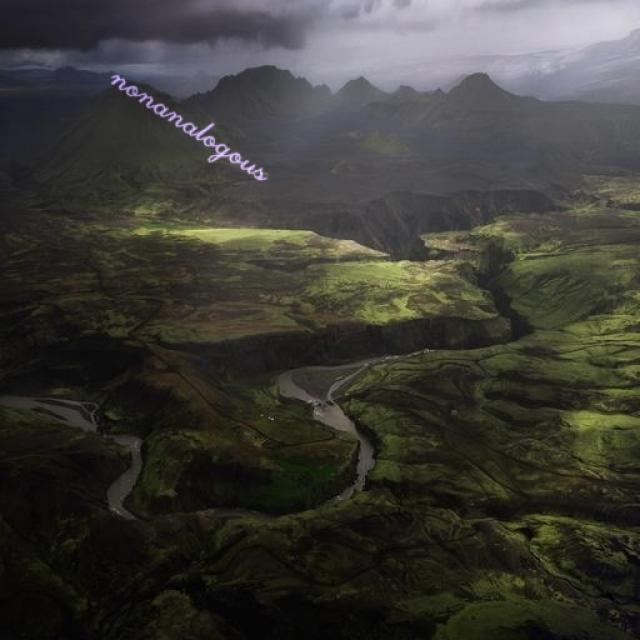watermark: (101, 58, 285, 188)
